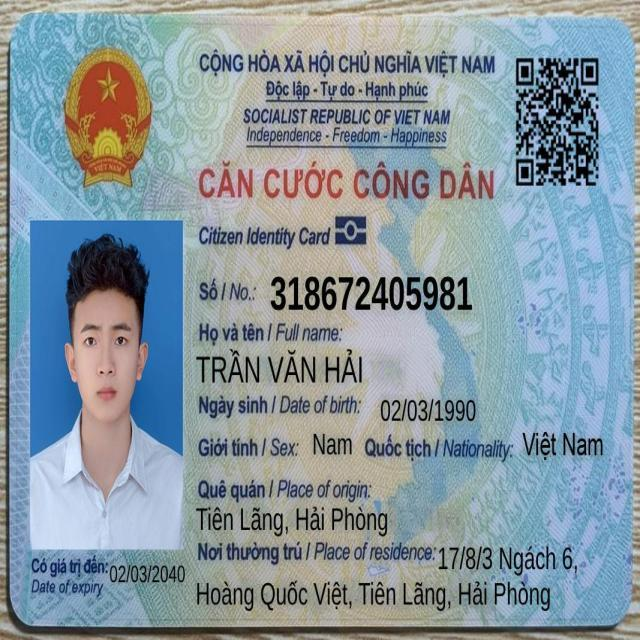current_place: (194, 577, 552, 615), (437, 541, 579, 578)
dob: (379, 394, 478, 426)
expire_date: (108, 562, 188, 586)
gender: (311, 429, 354, 459)
id: (267, 270, 475, 318)
name: (194, 344, 365, 390)
nationality: (520, 426, 605, 463)
origin_place: (193, 503, 390, 540)
qr: (512, 50, 604, 192)
